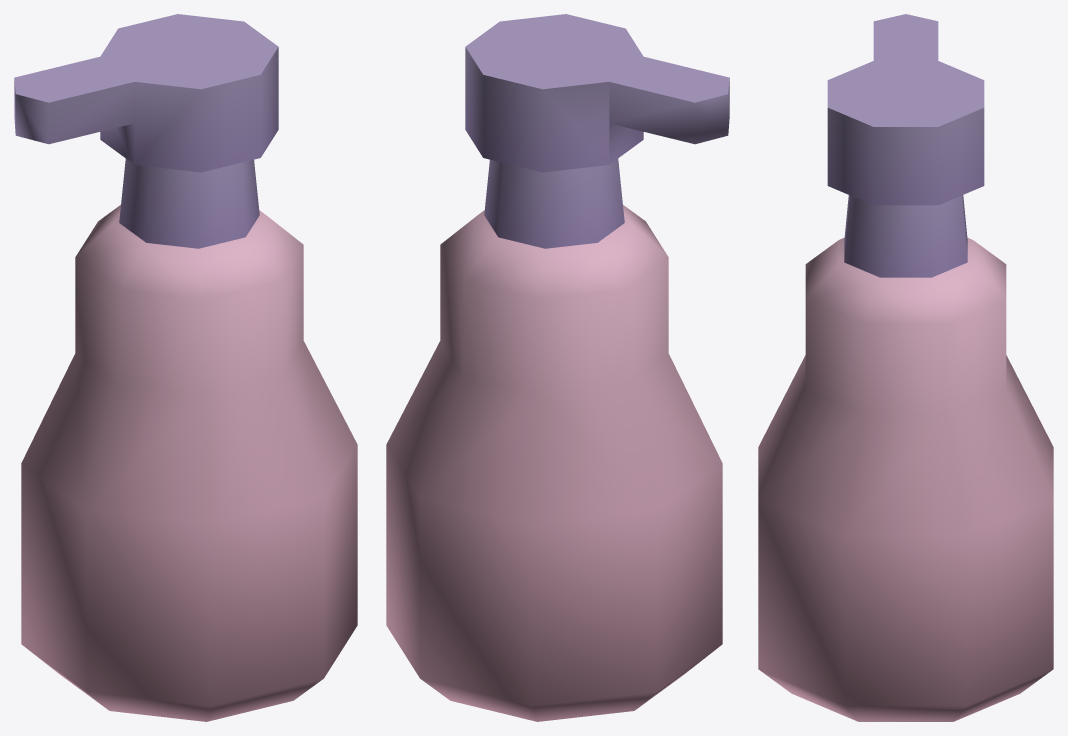
Rendered from makeup-spray-lotion.glb.
3 renders of one model, left to right at view 1: azimuth 30°, elevation 25°; view 2: azimuth 150°, elevation 25°; view 3: azimuth 270°, elevation 25°, orthographic. The views are drawn at different scales.
Visible parts, largest first — view 1: makeup-spray-lotion; view 2: makeup-spray-lotion; view 3: makeup-spray-lotion.
Part boxes in pixels (bbox=[...]): makeup-spray-lotion: bbox=[14, 14, 357, 721]; makeup-spray-lotion: bbox=[386, 14, 729, 721]; makeup-spray-lotion: bbox=[758, 14, 1053, 721].
Bounding box in the file's own units: 0.1518 × 0.2885 × 0.1331.
